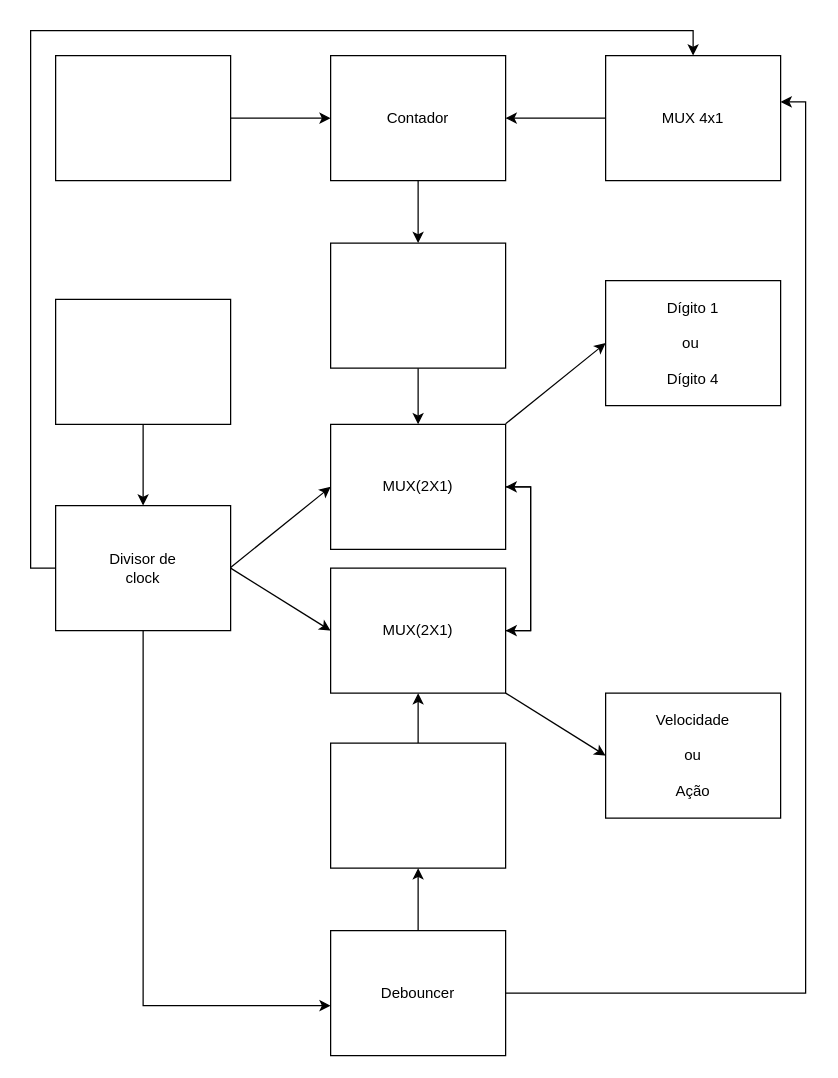
Some shapes in this 838 by 1078 pixel diagram are drawn without their labels. The centre of each missing label's shape, as x and y in pixels:
Decodificador de 7 segmentos para dígito da ação: the point at 417,305
Decodificador de 7 segmentos para dígito da velocidade: the point at 417,805
Oscilador de 50MHz: the point at 142,361
RESET (coleira): the point at 142,117
